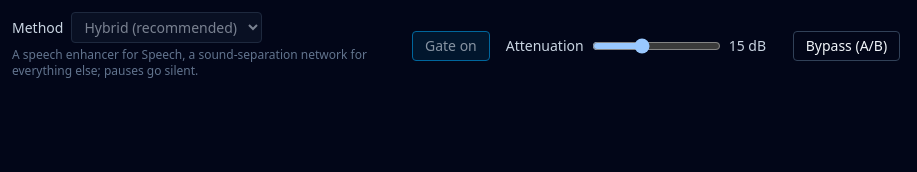
extraction controls › the attenuation slider sends the target with the selected classes
The image size is (917, 172).
Set the slider named "Attenuation (dB)" to "12" at (634, 46), box 592,38 -> 721,54
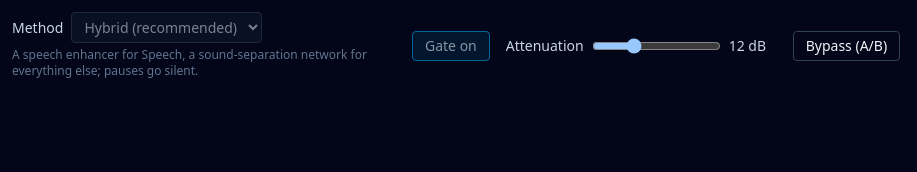
Expected: the text "12 dB" is shown, 729,36 -> 766,54
